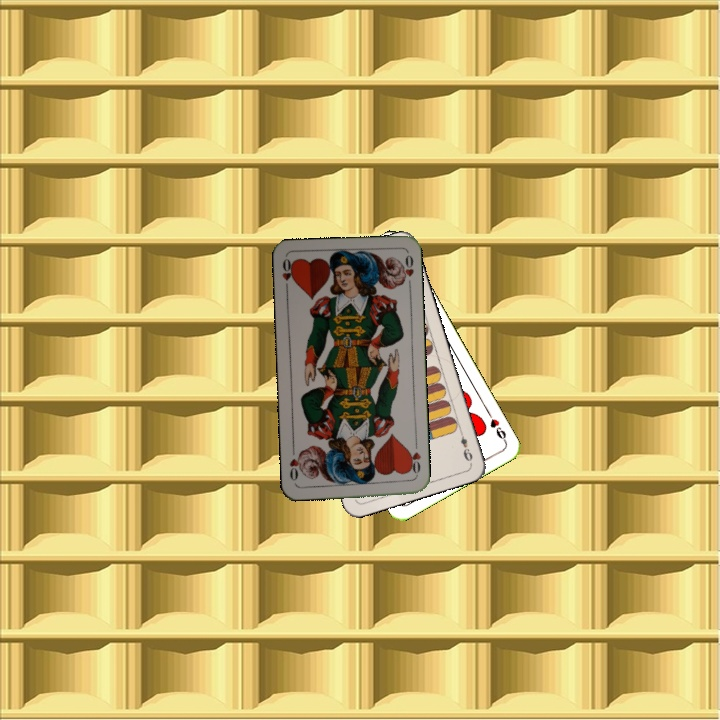E9: (456, 426, 475, 464)
H9: (483, 408, 509, 445)
HO: (404, 439, 424, 479), (278, 255, 297, 295)
